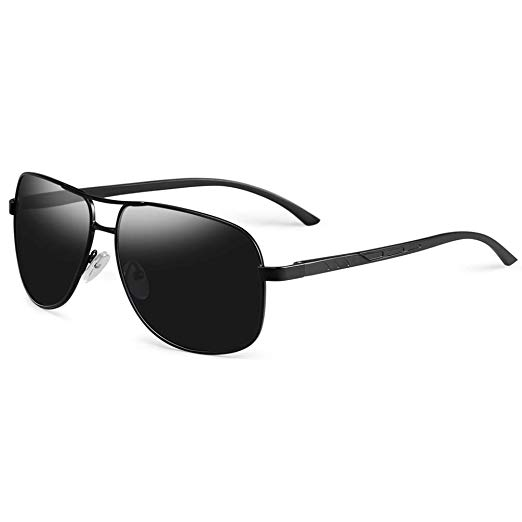sunglasses: (9, 167, 518, 347)
